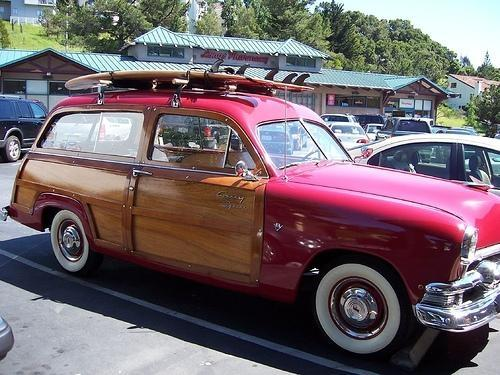car: (0, 82, 500, 362), (351, 134, 500, 196), (2, 91, 48, 160), (377, 116, 432, 142), (328, 122, 370, 142), (0, 315, 14, 357), (319, 113, 359, 126), (362, 124, 384, 141)
